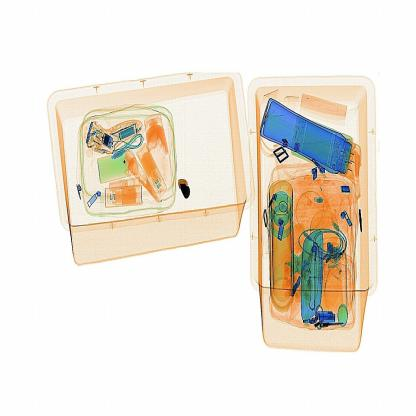wrench: (177, 173, 192, 202)
